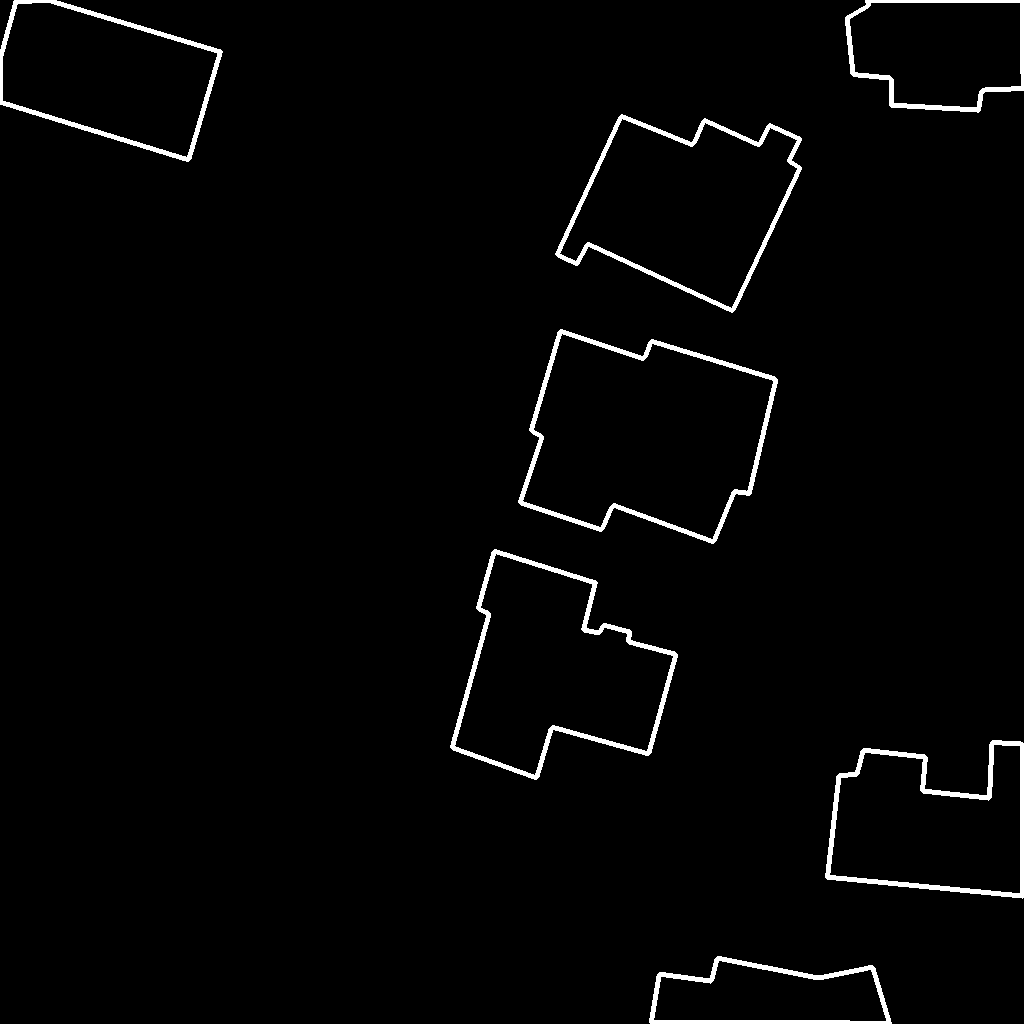building: (520, 331, 777, 543), (452, 551, 677, 779), (557, 116, 801, 312), (0, 0, 222, 161), (827, 742, 1024, 897), (847, 0, 1024, 111), (651, 958, 891, 1024)
